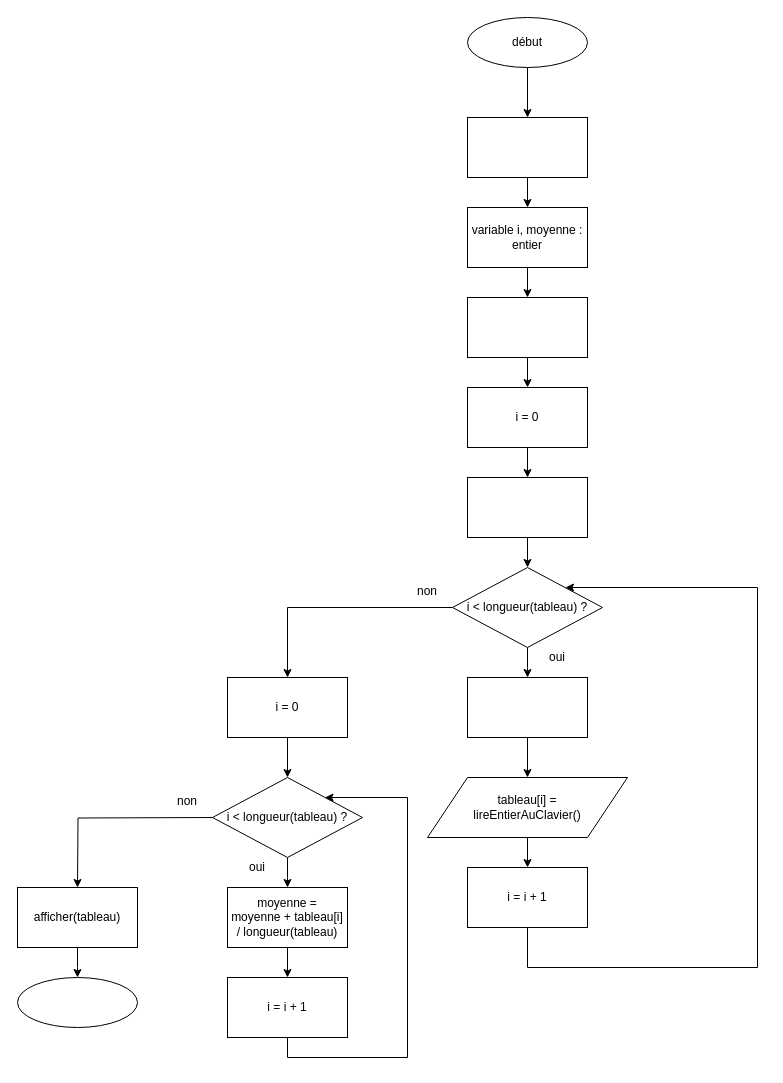
This 783x1083 diagram has some shape labels left out. Here are the shapes that lost their labels. From the top down, the box of each, then its label:
(466, 116, 588, 178): variable arr : tableau de entier
(466, 296, 588, 358): tableau = [ ]
(466, 476, 588, 538): moyenne = 0
(466, 676, 588, 738): afficher( "Entrez un nombre : " )
(16, 976, 138, 1028): fin
